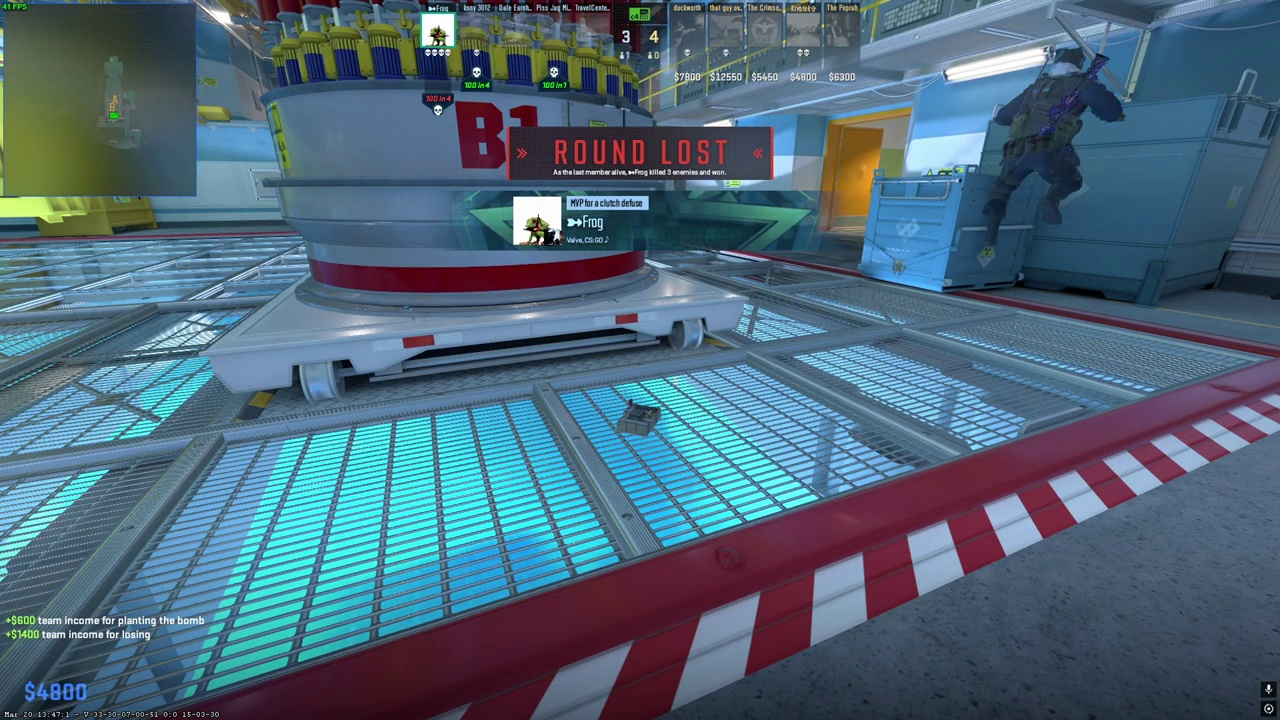CT: (984, 46, 1102, 246)
